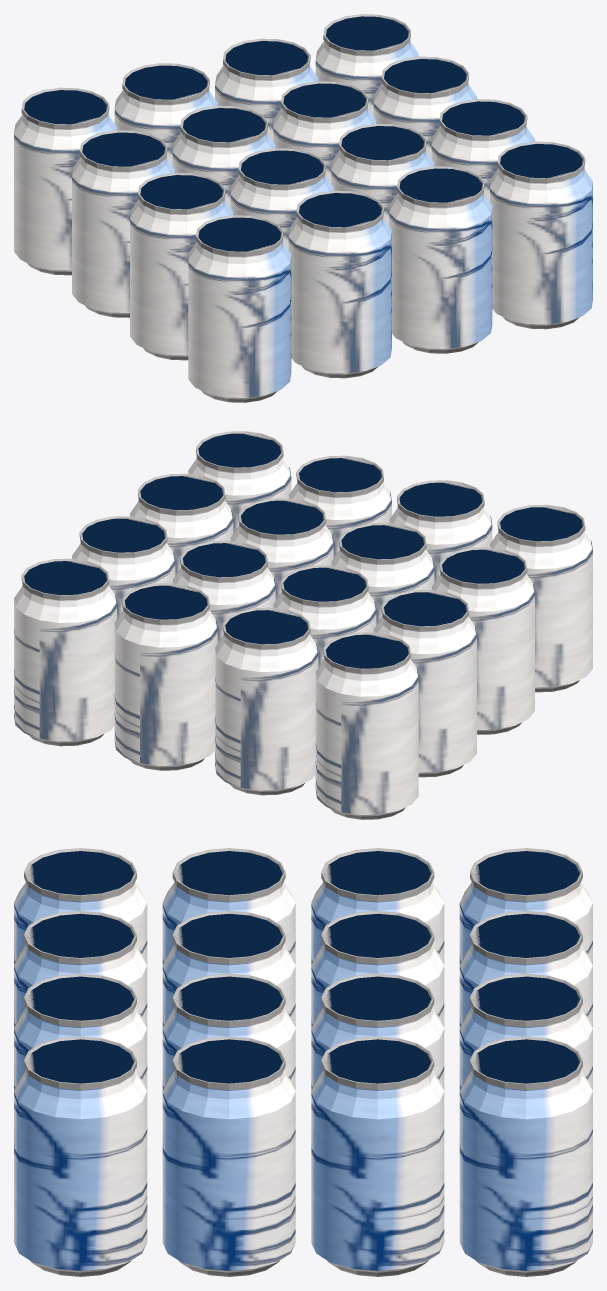
The model's file is GreenFnata_SodaCan.fbx.
3 views of the same model, one above another, from view 1: azimuth 30°, elevation 25°; view 2: azimuth 150°, elevation 25°; view 3: azimuth 270°, elevation 25° (orthographic). The views are drawn at different scales.
Parts seen in each view (by area): view 1: GreenFnata_Can; view 2: GreenFnata_Can; view 3: GreenFnata_Can.
Boxes of the visible parts, box(x1,y1,x2,y2) form: GreenFnata_Can: box(14, 14, 592, 402); GreenFnata_Can: box(14, 431, 592, 819); GreenFnata_Can: box(14, 848, 592, 1276).
Bounding box in the file's own units: 38.96 × 14.45 × 38.96.
